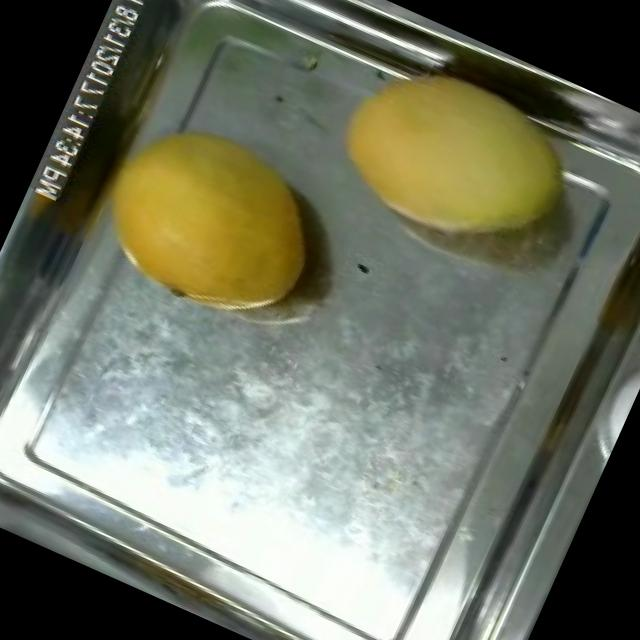fruit: (302, 25, 606, 294), (69, 81, 362, 352)
